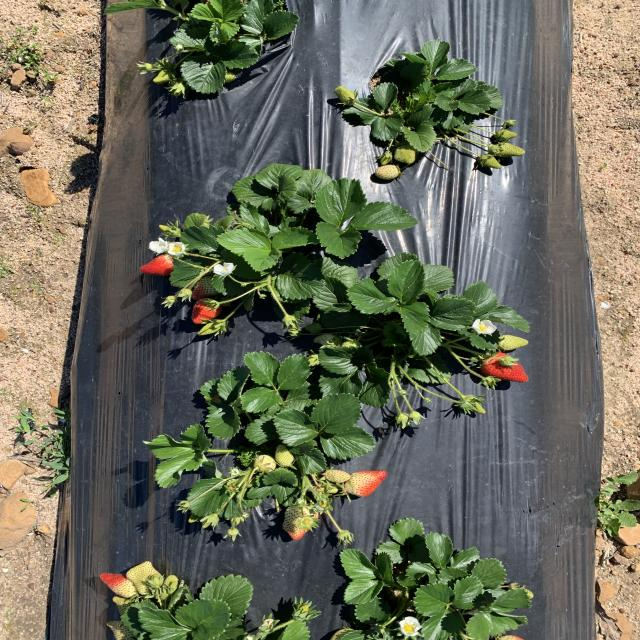unripe: (480, 354, 532, 386), (136, 253, 180, 277), (190, 300, 219, 324)
